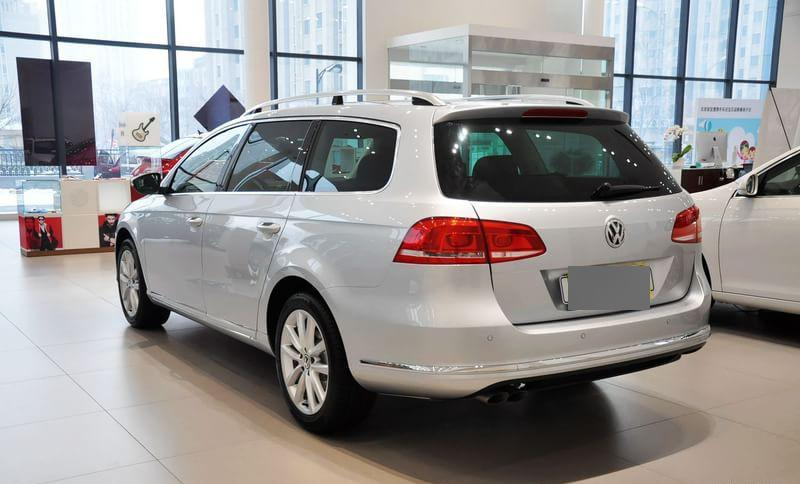Wagon: (113, 87, 713, 435)
